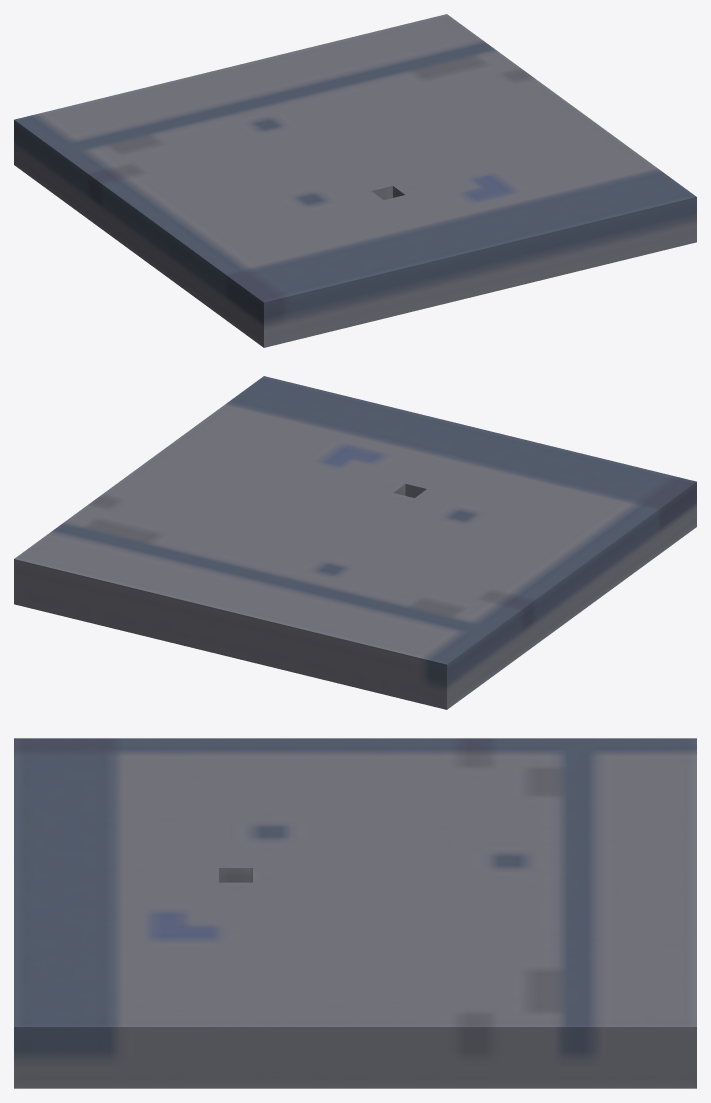
File: Sidewalk_Chunk_2.glb
3 views of the same model, one above another, from view 1: azimuth 30°, elevation 25°; view 2: azimuth 150°, elevation 25°; view 3: azimuth 270°, elevation 25° (orthographic). The views are drawn at different scales.
Parts seen in each view (by area): view 1: Sidewalk_Chunk_2; view 2: Sidewalk_Chunk_2; view 3: Sidewalk_Chunk_2.
Part boxes in pixels (x1,y1,x2,y2): Sidewalk_Chunk_2: [14, 14, 696, 347]; Sidewalk_Chunk_2: [14, 376, 696, 709]; Sidewalk_Chunk_2: [14, 738, 696, 1088].
Bounding box in the file's own units: 2 × 0.2 × 2.
Materials: 1 (1 with a texture image).
